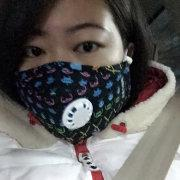OK: (20, 18, 128, 138)
